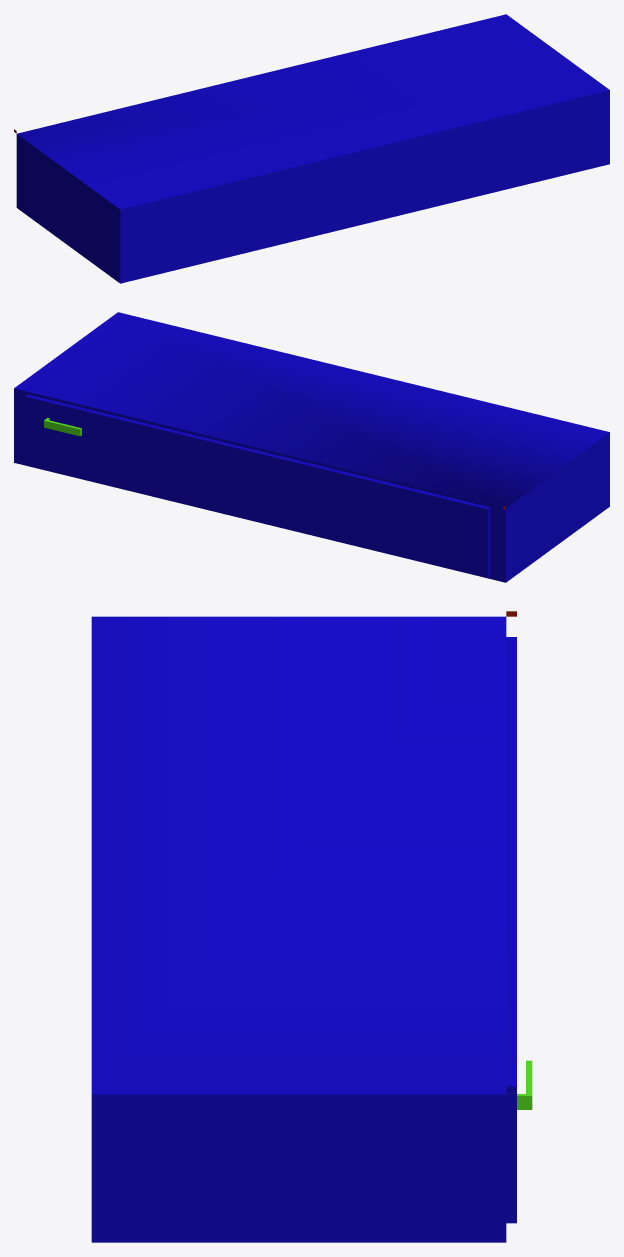
Rendered from P_BigEtagere01_Colored_Unbreakable.fbx.
3 views of the same model, one above another, from view 1: azimuth 30°, elevation 25°; view 2: azimuth 150°, elevation 25°; view 3: azimuth 270°, elevation 25° (orthographic). The views are drawn at different scales.
Parts seen in each view (by area): view 1: P_BigEtagere01_Colored_Unbreakable; view 2: P_BigEtagere01_Colored_Unbreakable; view 3: P_BigEtagere01_Colored_Unbreakable.
Part boxes in pixels (x1,y1,x2,y2): P_BigEtagere01_Colored_Unbreakable: [14, 14, 609, 283]; P_BigEtagere01_Colored_Unbreakable: [14, 312, 609, 582]; P_BigEtagere01_Colored_Unbreakable: [91, 611, 532, 1242].
Size of the model in its own units: 226 by 33.88 by 88.01.
